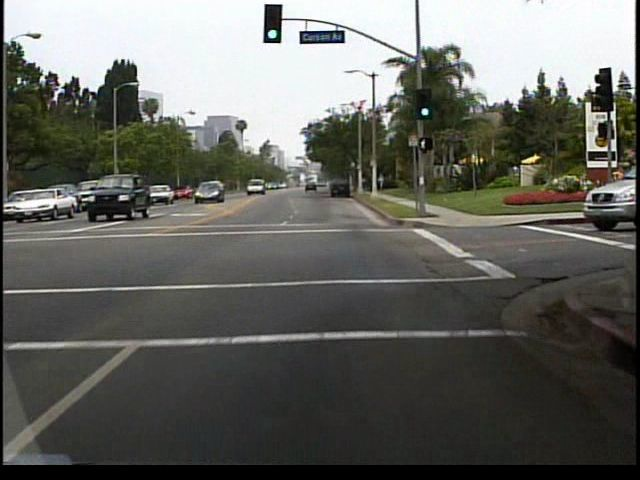person: (370, 176, 379, 199), (377, 172, 386, 192)
